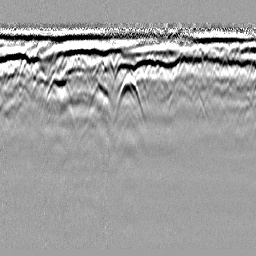cavity: (112, 71, 146, 126)
